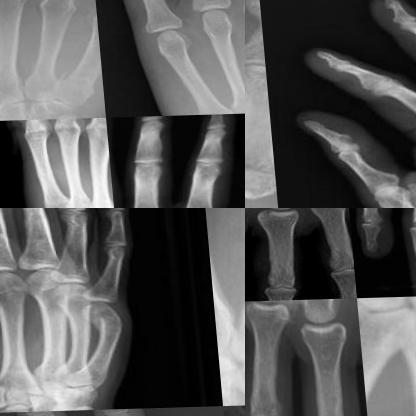fracture: (48, 67, 95, 105), (81, 307, 127, 345), (245, 134, 273, 191)
